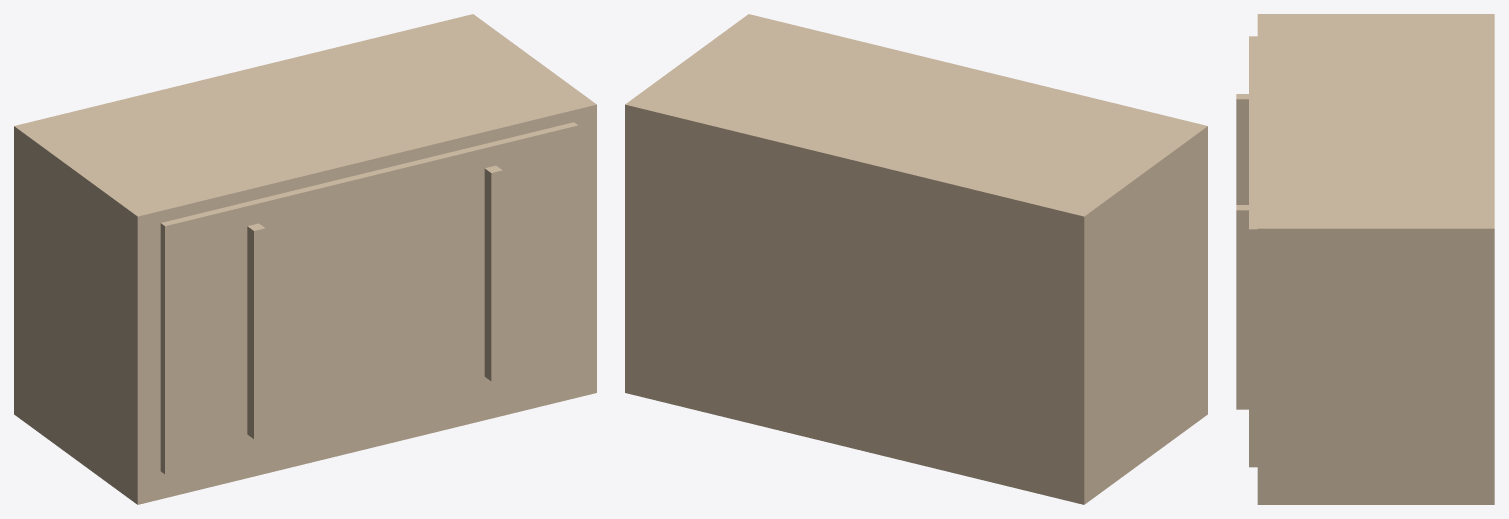
The model's file is base-cabinet-demo.gltf.
The picture shows the model from 3 angles, left to right: view 1: azimuth 30°, elevation 25°; view 2: azimuth 150°, elevation 25°; view 3: azimuth 270°, elevation 25°; orthographic projection. The views are drawn at different scales.
Parts seen in each view (by area): view 1: Base Cabinet Demo; view 2: Base Cabinet Demo; view 3: Base Cabinet Demo.
Boxes of the visible parts, bbox=[...] form: Base Cabinet Demo: bbox=[14, 14, 596, 504]; Base Cabinet Demo: bbox=[625, 14, 1207, 504]; Base Cabinet Demo: bbox=[1236, 14, 1494, 504].
Bounding box in the file's own units: 1.2 × 0.72 × 0.61.
